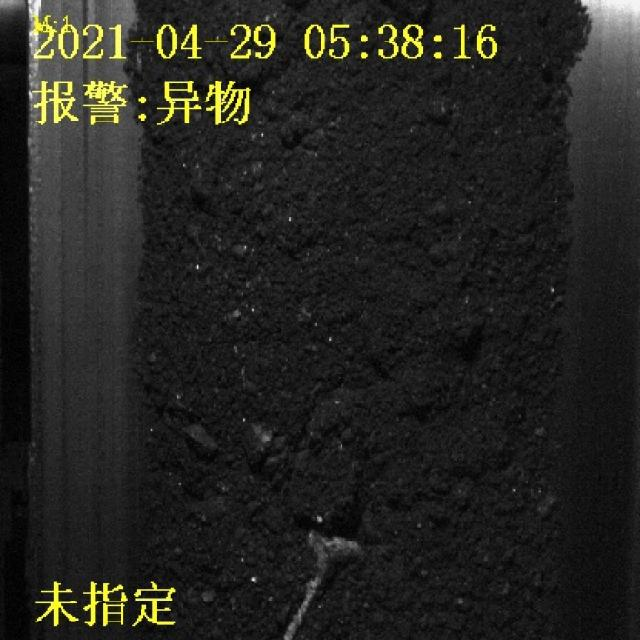bolt: (278, 532, 362, 640)
